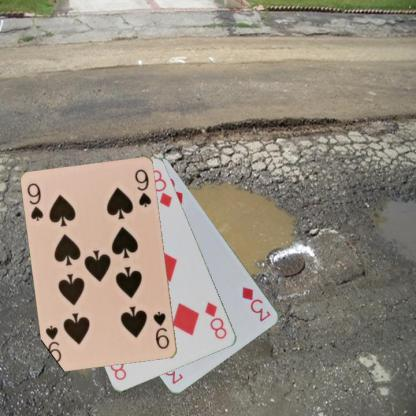3d: (239, 284, 272, 323)
8d: (202, 299, 229, 341)
9s: (151, 309, 171, 350), (25, 181, 45, 222)
